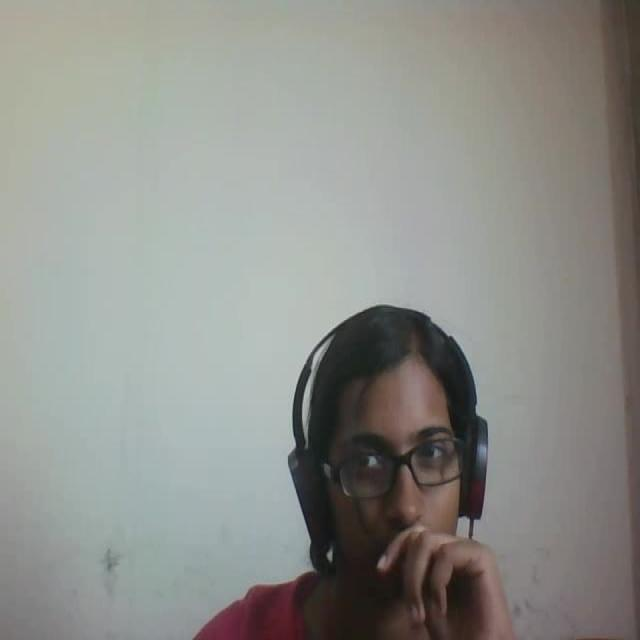Bored: (269, 285, 522, 612)
